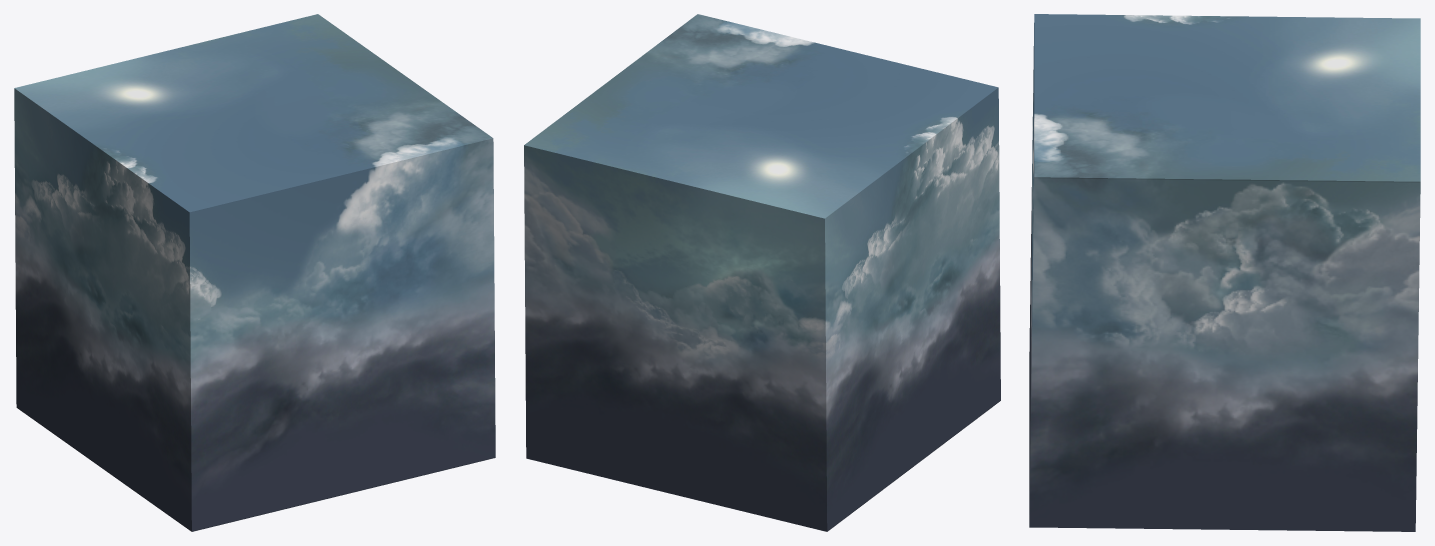
File: finalFIle.obj
The picture shows the model from 3 angles, left to right: view 1: azimuth 30°, elevation 25°; view 2: azimuth 150°, elevation 25°; view 3: azimuth 270°, elevation 25°; orthographic projection. The views are drawn at different scales.
Parts seen in each view (by area): view 1: Cube.005_Cube; view 2: Cube.005_Cube; view 3: Cube.005_Cube.
Part boxes in pixels (bbox=[...]): Cube.005_Cube: bbox=[14, 14, 495, 531]; Cube.005_Cube: bbox=[524, 14, 1000, 531]; Cube.005_Cube: bbox=[1029, 14, 1420, 531].
Bounding box in the file's own units: 115 × 116 × 116.
